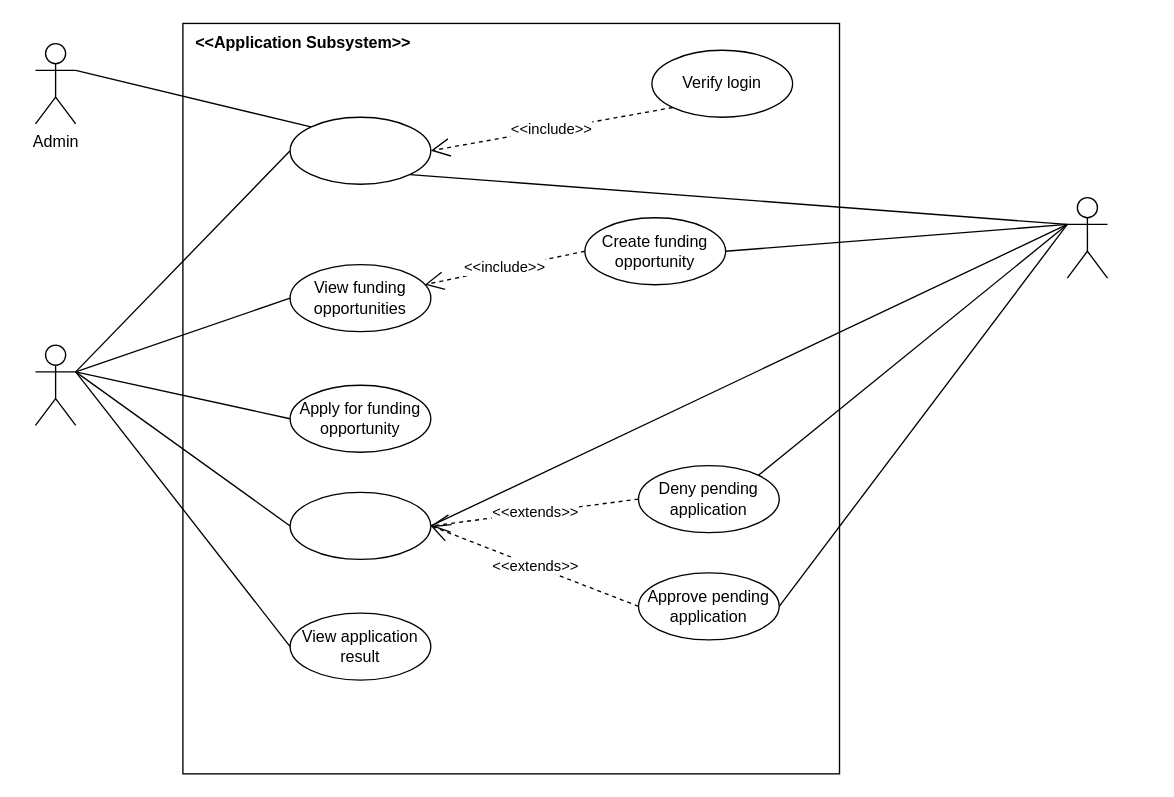
This 1174x797 diagram has some shape labels left out. Here are the shapes that lost their labels. From the top down, the centre of each, then its label:
the point at 360,150: Login
the point at 1087,237: Funding Manager
the point at 55,384: Applicant
the point at 360,525: View pending application
